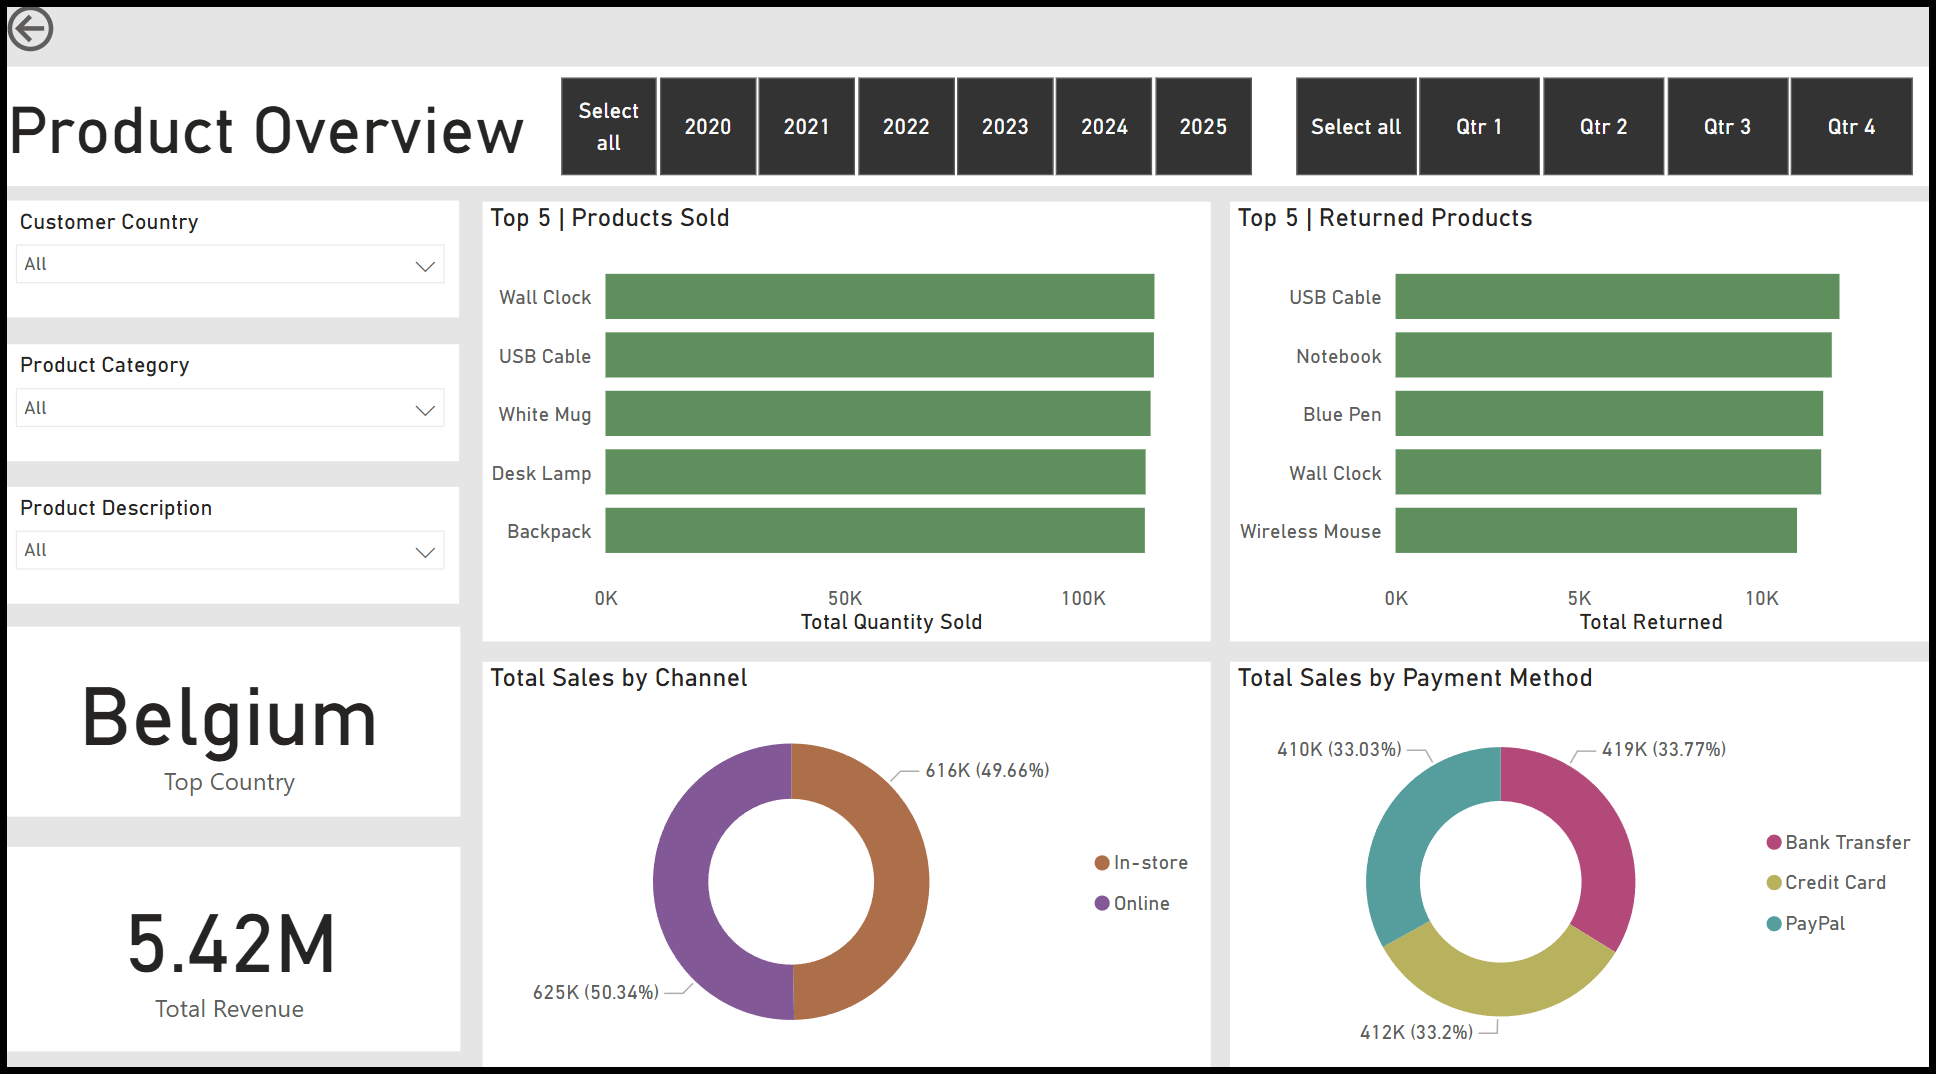

What the dashboard file says about the page in this screenshot:
{"tool":"powerbi","page":{"name":"Product Overview","canvas":[1280,720],"ordinal":1},"visuals":[{"type":"textbox","box":[0,45.2,1280.3,78.3],"z":0},{"type":"slicer","fields":{"Values":["Online_Sales_Final.Country"]},"box":[0,133.1,301.9,76.8],"z":1000},{"type":"slicer","fields":{"Values":["Online_Sales_Final.Category"]},"box":[0,227.8,301.9,76.8],"z":2000},{"type":"slicer","fields":{"Values":["Online_Sales_Final.Description"]},"box":[0,321.1,301.9,76.8],"z":3000},{"type":"slicer","fields":{"Values":["Online_Sales_Final.Order Date.Variación.Jerarquía de fechas.Año"]},"box":[342.4,45.2,503.8,78.3],"z":4000},{"type":"slicer","fields":{"Values":["Online_Sales_Final.Order Date.Variación.Jerarquía de fechas.Trimestre"]},"box":[825.4,45.2,454.9,78.3],"z":5000},{"type":"actionButton","box":[0,0,100,40],"z":9000},{"type":"card","fields":{"Values":["Online_Sales_Final.Top Country by Revenue"]},"box":[0,422.9,302.3,125],"z":9001},{"type":"card","fields":{"Values":["Online_Sales_Final.Top Country Revenue"]},"box":[0,557.6,302,134.5],"z":9002},{"type":"clusteredBarChart","title":"Top 5 | Products Sold","fields":{"Y":["Online_Sales_Final.Total Quantity Sold"],"Category":["Online_Sales_Final.Description"]},"box":[316.8,133.7,478.1,289.2],"z":9004},{"type":"clusteredBarChart","title":"Top 5 | Returned Products","fields":{"Category":["Online_Sales_Final.Description"],"Y":["Online_Sales_Final.Total Returned"]},"box":[808,133.7,462.1,289.2],"z":9005},{"type":"donutChart","title":"Total Sales by Channel","fields":{"Series":["Online_Sales_Final.Sales Channel"],"Y":["Online_Sales_Final.Total Quantity Sold"]},"box":[316.8,436,478.1,270.3],"z":9006},{"type":"donutChart","title":"Total Sales by Payment Method","fields":{"Series":["Online_Sales_Final.Payment Method"],"Y":["Online_Sales_Final.Total Quantity Sold"]},"box":[808,436,462.1,270.3],"z":9007}]}

Visuals, with their boxes in screenshot pixels (x1, y1, x2, y2), scaled from the page's 1280x720 canvas onto the 1936x1074 screenshot:
textbox: locate(0, 67, 1935, 184)
slicer - Online_Sales_Final.Country: locate(0, 199, 457, 313)
slicer - Online_Sales_Final.Category: locate(0, 340, 457, 454)
slicer - Online_Sales_Final.Description: locate(0, 479, 457, 594)
slicer - Online_Sales_Final.Order Date.Variación.Jerarquía de fechas.Año: locate(518, 67, 1280, 184)
slicer - Online_Sales_Final.Order Date.Variación.Jerarquía de fechas.Trimestre: locate(1248, 67, 1935, 184)
actionButton: locate(0, 0, 151, 60)
card - Online_Sales_Final.Top Country by Revenue: locate(0, 631, 457, 817)
card - Online_Sales_Final.Top Country Revenue: locate(0, 832, 457, 1032)
"Top 5 | Products Sold" clusteredBarChart: locate(479, 199, 1202, 631)
"Top 5 | Returned Products" clusteredBarChart: locate(1222, 199, 1921, 631)
"Total Sales by Channel" donutChart: locate(479, 650, 1202, 1054)
"Total Sales by Payment Method" donutChart: locate(1222, 650, 1921, 1054)
